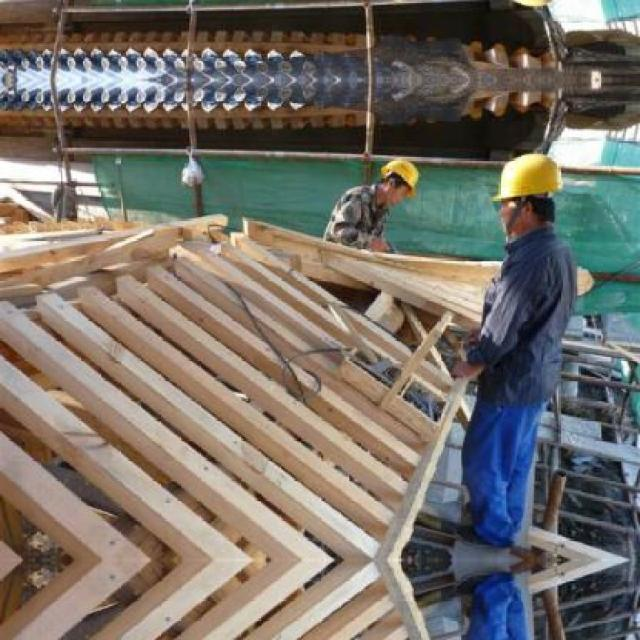helmet: (484, 146, 564, 242), (370, 155, 424, 208)
